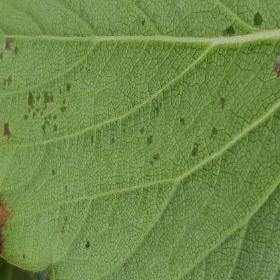Angular Leafspot: (0, 3, 279, 264)
